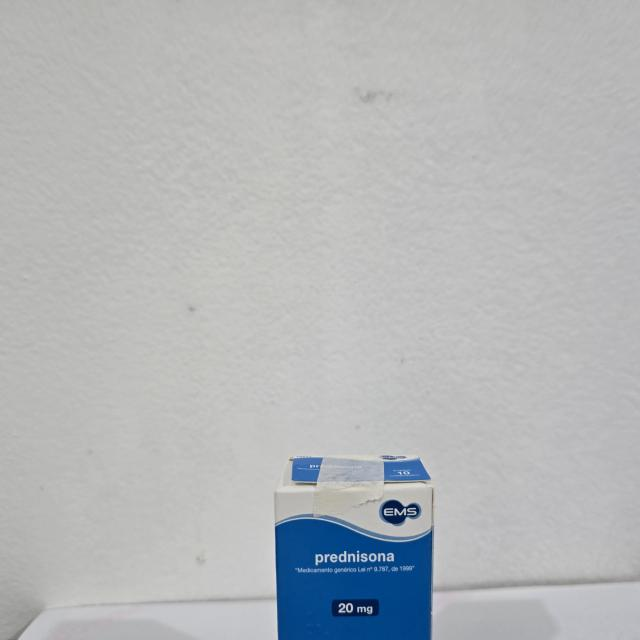prednisona: (269, 450, 437, 640)
